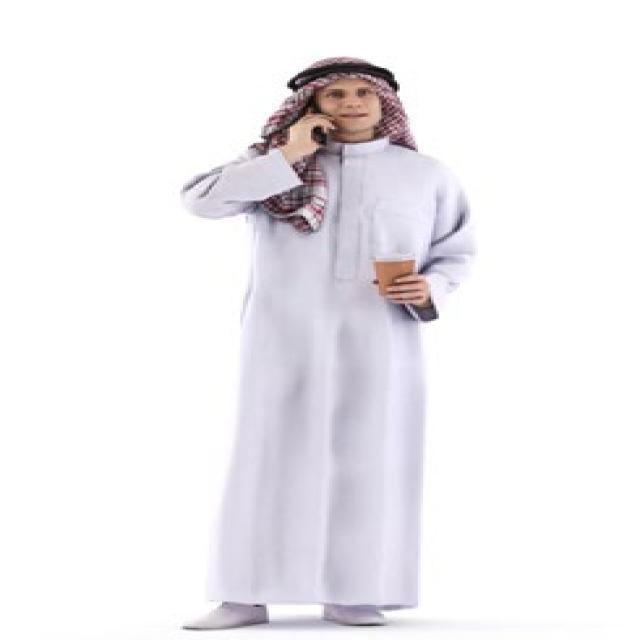standing: (175, 53, 488, 632)
